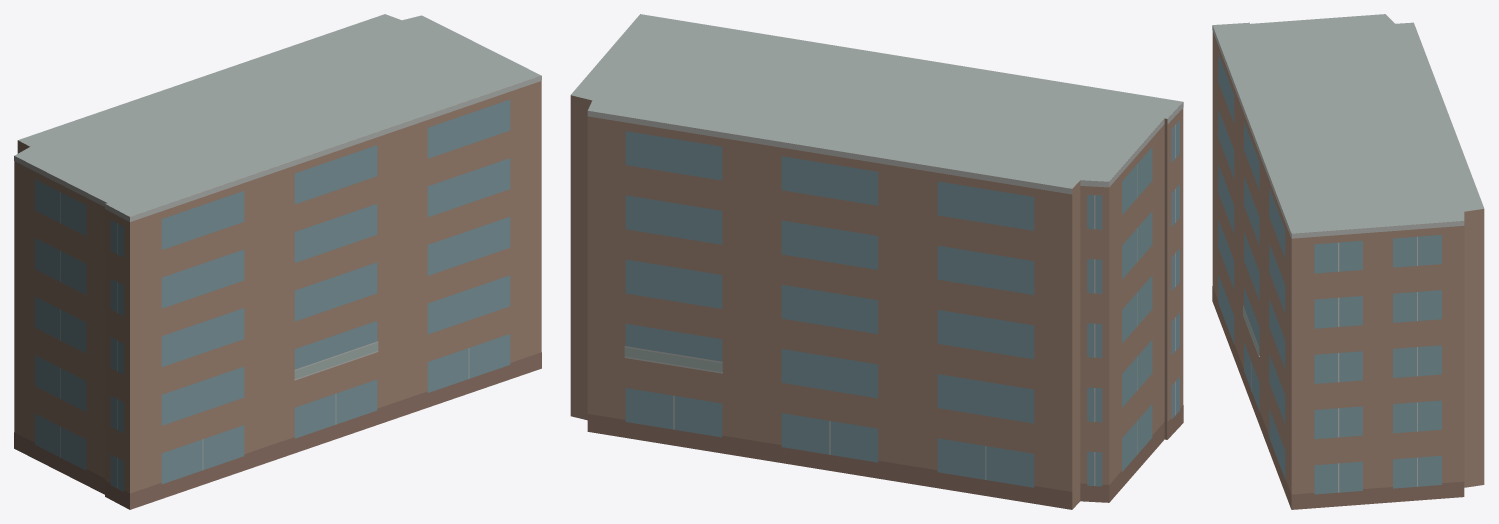
File: survey-upis-32749509.glb
3 views of the same model, side by side, from view 1: azimuth 30°, elevation 25°; view 2: azimuth 150°, elevation 25°; view 3: azimuth 270°, elevation 25° (orthographic). The views are drawn at different scales.
Visible parts, largest first — view 1: survey-upis-32749509.tmp; view 2: survey-upis-32749509.tmp; view 3: survey-upis-32749509.tmp.
Part boxes in pixels (x1,y1,x2,y2): survey-upis-32749509.tmp: (14, 14, 541, 509); survey-upis-32749509.tmp: (570, 14, 1183, 509); survey-upis-32749509.tmp: (1212, 14, 1484, 509).
Size of the model in its own units: 23.57 by 13.8 by 12.33.
